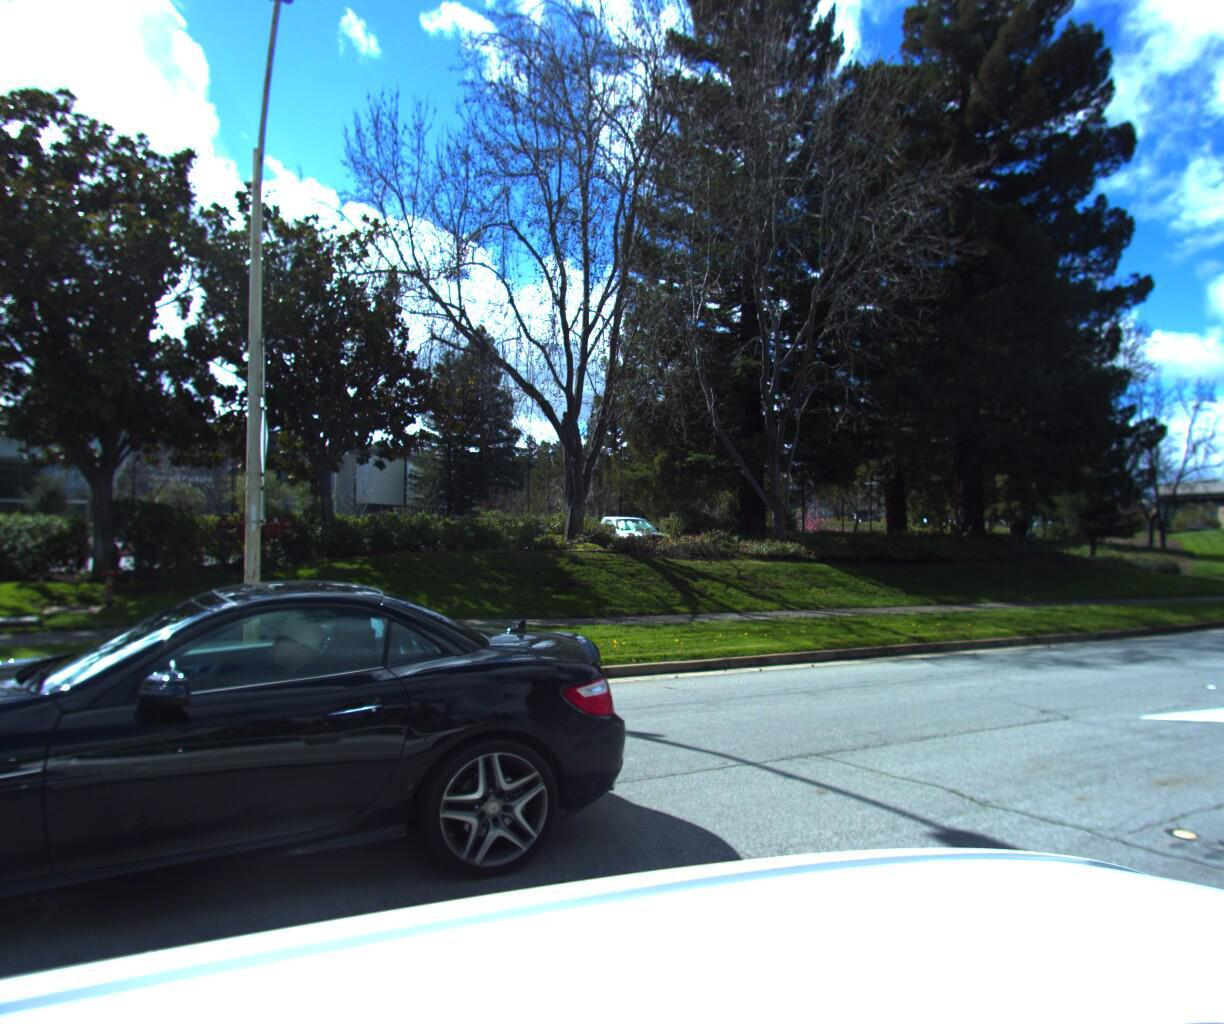car: (0, 573, 614, 1024)
